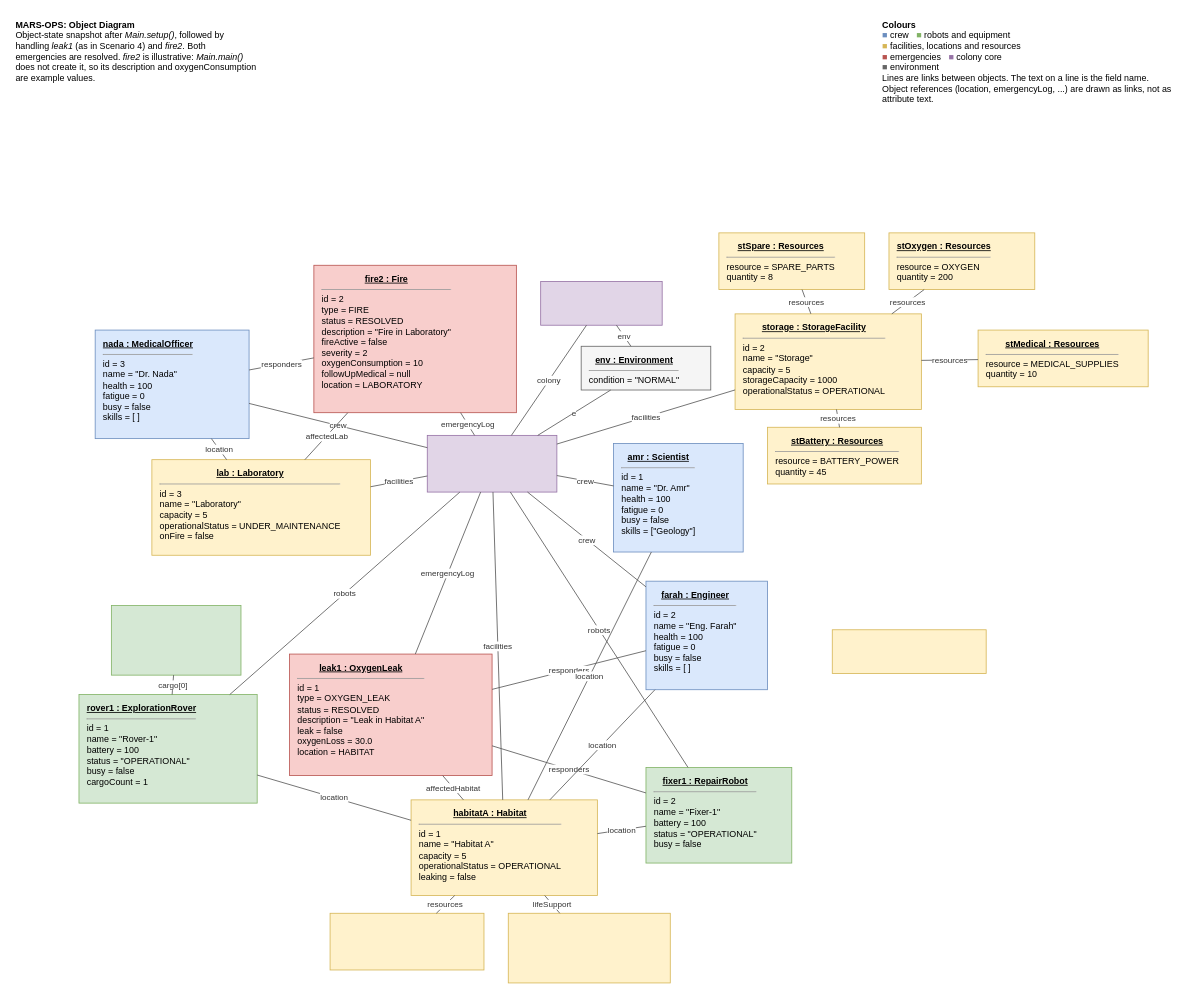
Some shapes in this 1186 by 997 pixel diagram are drawn without their labels. Each missing label, with the centre of its shape:
colony : Colony activeMission = null missionHistory = [ ]: the point at 491,463
drill : Equipment name = "Drill" quantity = 1 damaged = false: the point at 176,640
habOxygen : Resources resource = OXYGEN quantity = 270: the point at 406,941
ls : LifeSupportSystem status = true consumptionRate = 1 airQuality = 100: the point at 588,947
sim : Simulation currentTime = 0: the point at 601,303
surface : MarsSurface name = "Mars Surface": the point at 908,651
